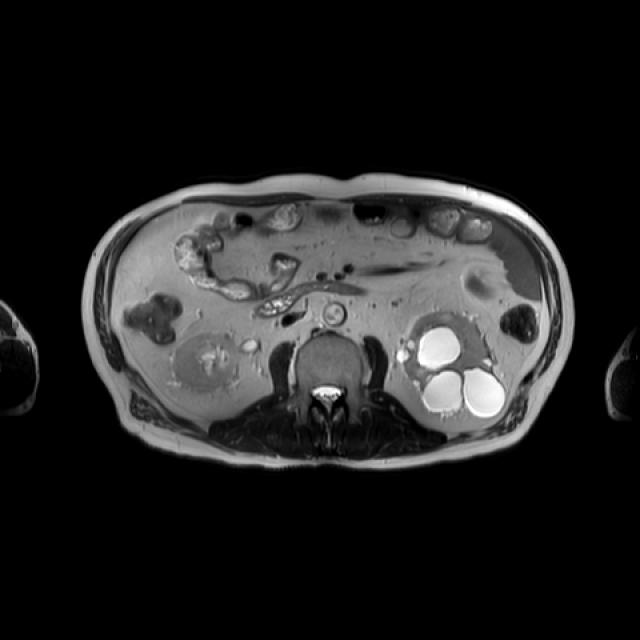sag: (173, 330, 260, 391)
sol: (397, 308, 506, 420)
